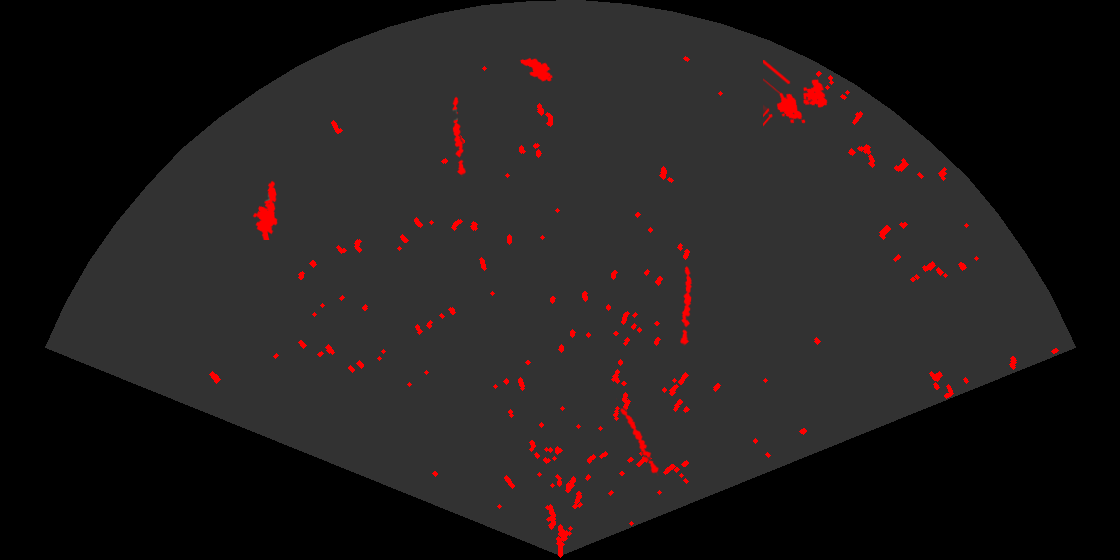AUV: (518, 56, 554, 83)
cage: (763, 60, 829, 128)
chain: (616, 398, 661, 476), (451, 95, 467, 177), (679, 264, 694, 346)
frogman: (251, 179, 279, 240)
